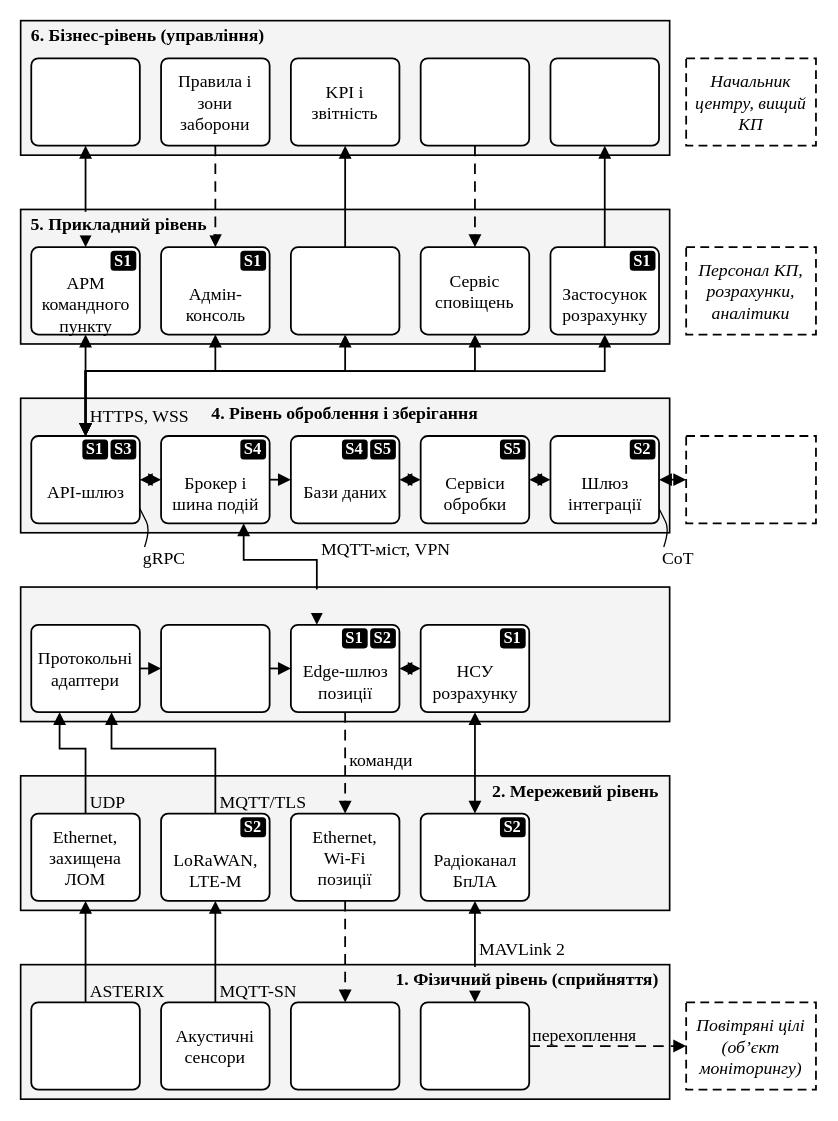
This 838x1121 diagram has some shape labels left out. The box of each missing label's shape, as (x1, y1, x2, y2) in pixels:
3. Рівень периферійного оброблення (Edge): (25, 589, 382, 612)
DELTA, ПС ЗСУ, ДСНС, метеосервіс: (685, 435, 816, 524)
Дрони- перехоп- лювачі: (419, 1001, 530, 1090)
Локальне злиття треків: (160, 623, 270, 712)
Панель KPI: (289, 246, 400, 335)
Планування ресурсів: (549, 57, 659, 146)
РЛС і оптичні пости: (30, 1001, 140, 1090)
Рішення на пуск: (30, 57, 140, 146)
Сирени і табло позиції: (289, 1001, 400, 1090)
Сценарії оповіщення: (419, 57, 530, 146)
